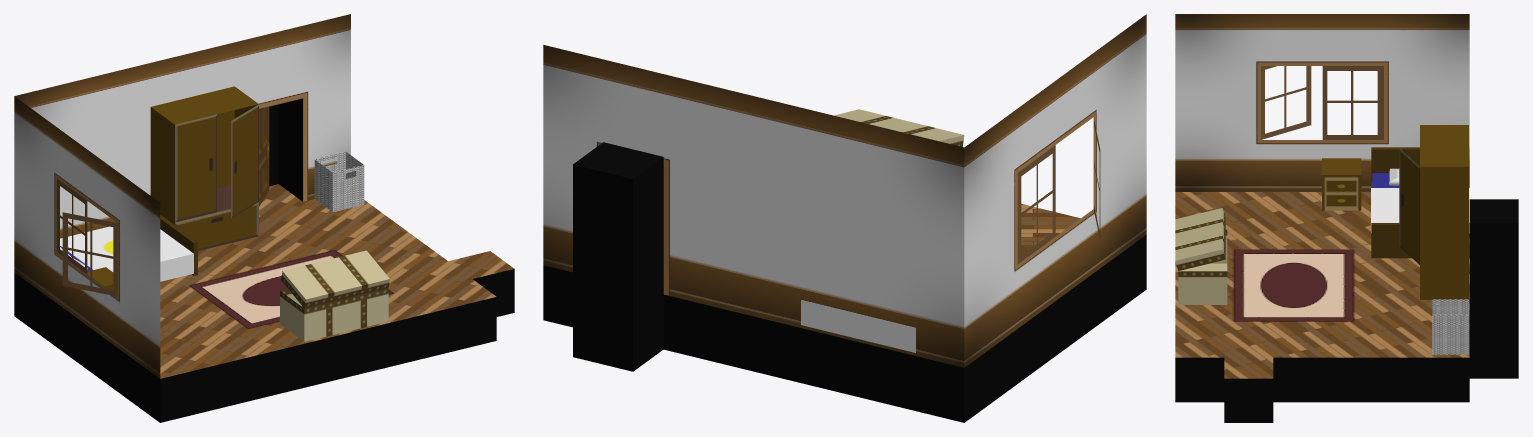
The model's file is room0.fbx.
The picture shows the model from 3 angles, left to right: view 1: azimuth 30°, elevation 25°; view 2: azimuth 150°, elevation 25°; view 3: azimuth 270°, elevation 25°; orthographic projection. The views are drawn at different scales.
Visible parts, largest first — view 1: Cube, Cube.008, Cube.004; view 2: Cube, Cube.004, Cube.008; view 3: Cube, Cube.008, Cube.004.
Part boxes in pixels (box(x1,y1,x2,y2)): Cube: box(14, 14, 514, 422); Cube.008: box(60, 86, 389, 341); Cube.004: box(60, 226, 193, 281); Cube: box(543, 14, 1146, 422); Cube.004: box(801, 300, 915, 352); Cube.008: box(834, 109, 1028, 255); Cube: box(1175, 14, 1518, 422); Cube.008: box(1175, 125, 1469, 354); Cube.004: box(1371, 188, 1469, 232).
Size of the model in its own units: 1943 by 1000 by 1400.
Materials: 3 (3 with a texture image).
